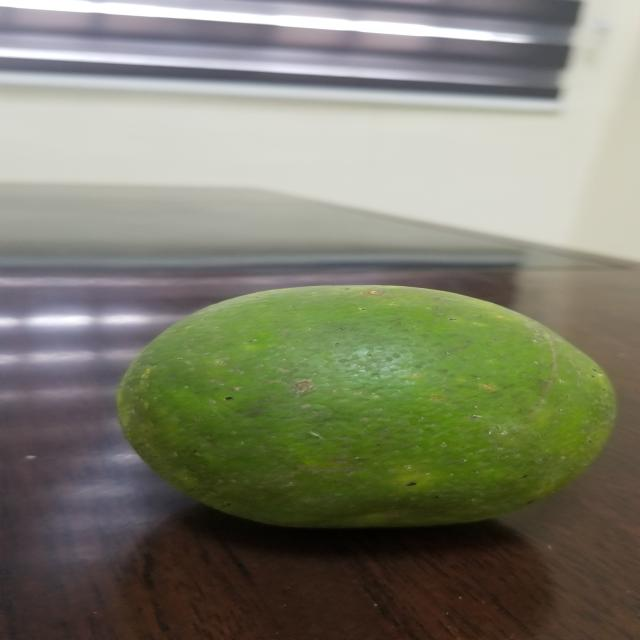Ripe orange: (101, 278, 640, 540)
